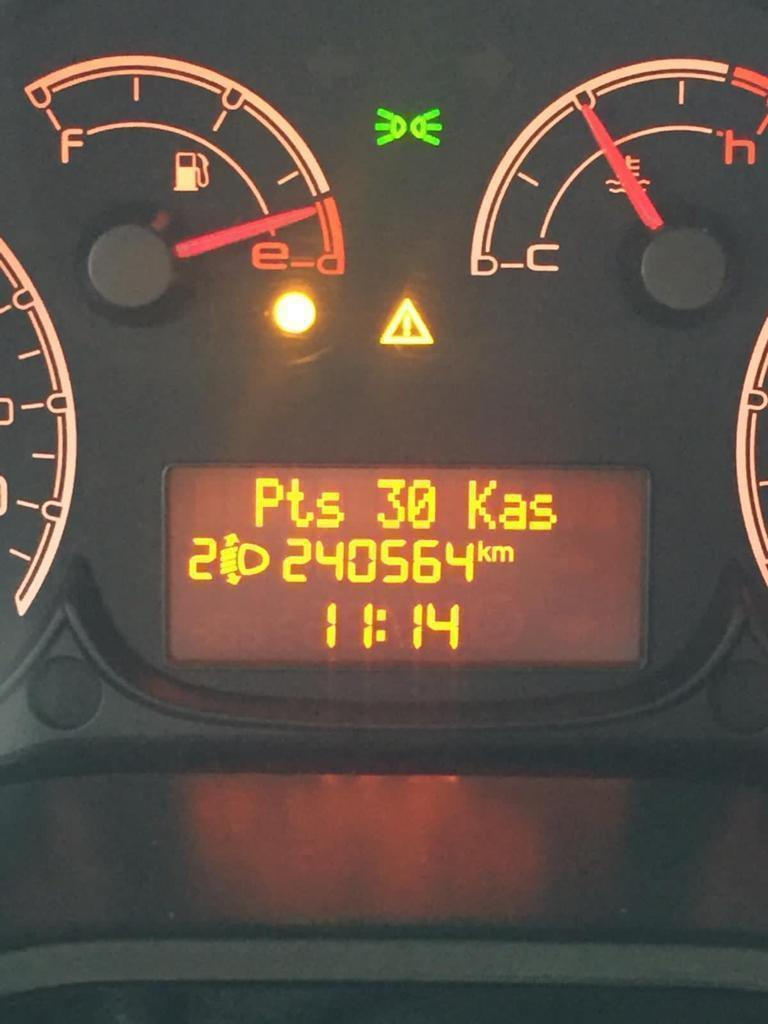0: (407, 475, 438, 529), (346, 535, 378, 584)
1: (320, 597, 339, 652), (358, 598, 373, 653), (408, 600, 422, 654)
2: (186, 533, 218, 587), (280, 532, 311, 586)
3: (376, 475, 405, 530)
4: (425, 601, 460, 649), (314, 537, 344, 582), (445, 537, 474, 583)
5: (379, 536, 409, 583)
6: (413, 538, 441, 585)
X: (467, 475, 498, 531), (283, 475, 313, 530), (254, 473, 284, 527), (314, 488, 347, 529), (528, 489, 558, 531), (499, 490, 527, 531), (375, 604, 389, 644), (491, 544, 515, 564), (477, 539, 491, 563)
odometer: (154, 452, 660, 680)
